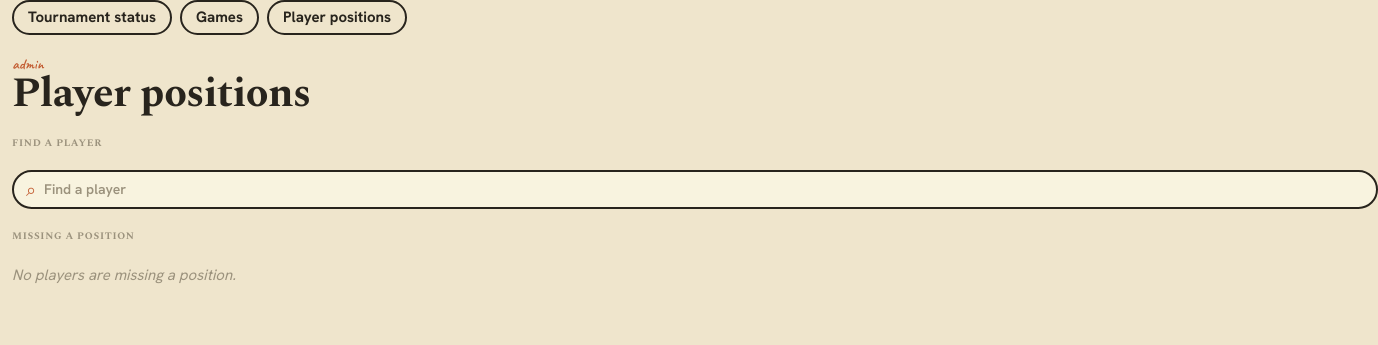
it: shows a message when the search finds nobody
Type "Zz" into the search field labelled "Find a player" at (121, 190), box [36, 172, 206, 207]
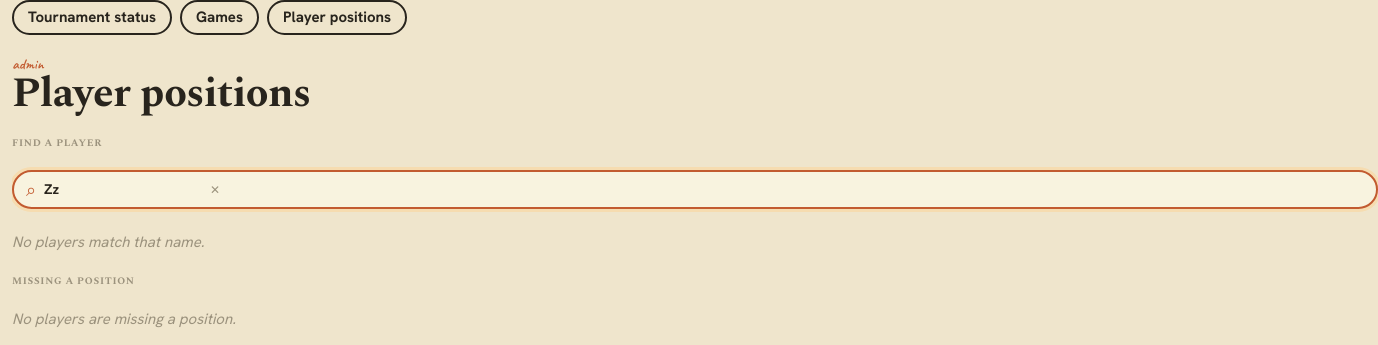
expect the text "No players match that name." is shown: met, box [12, 232, 204, 252]
